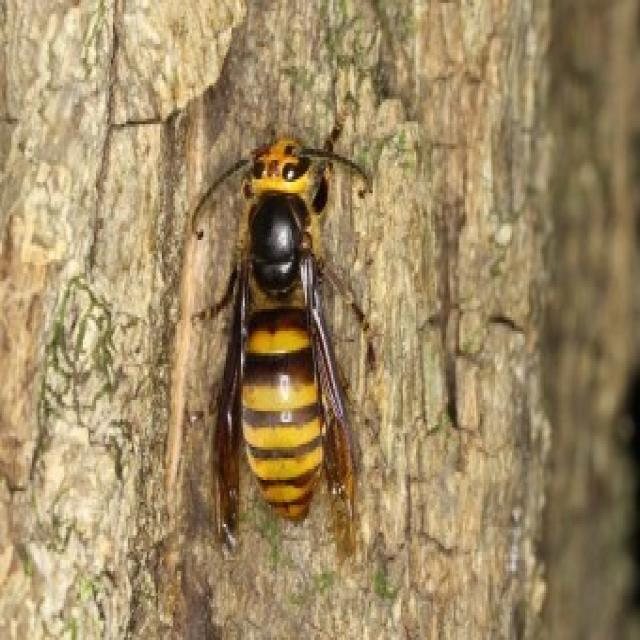Wasp: (186, 130, 371, 554)
